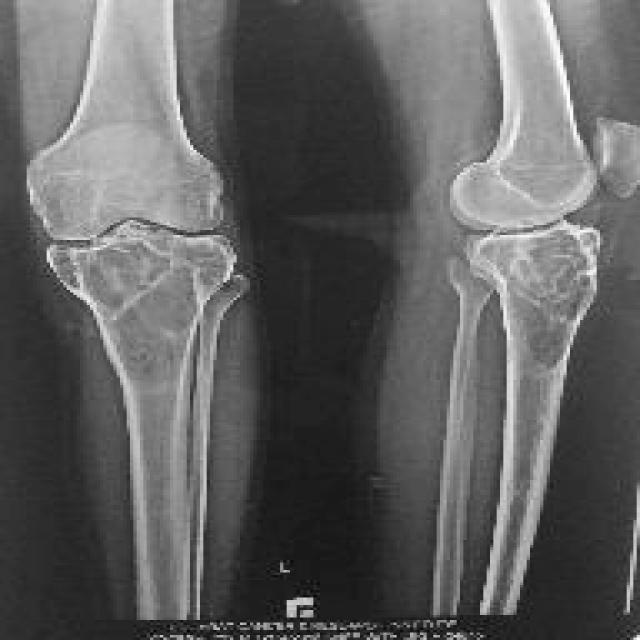bone-cancer: (69, 235, 235, 369), (467, 221, 600, 368)
